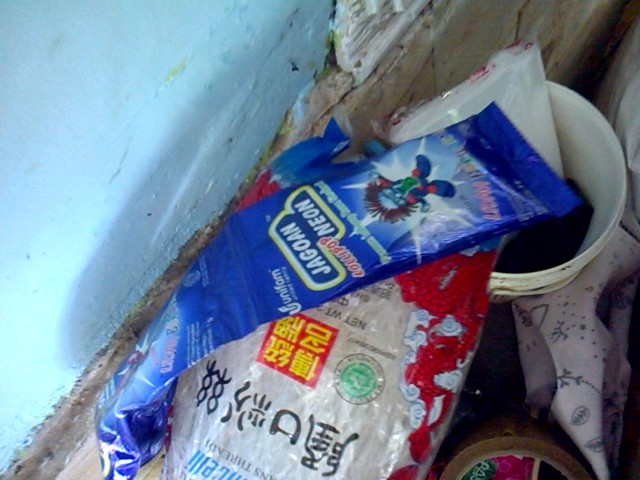jagoan neon: (217, 102, 583, 331)
